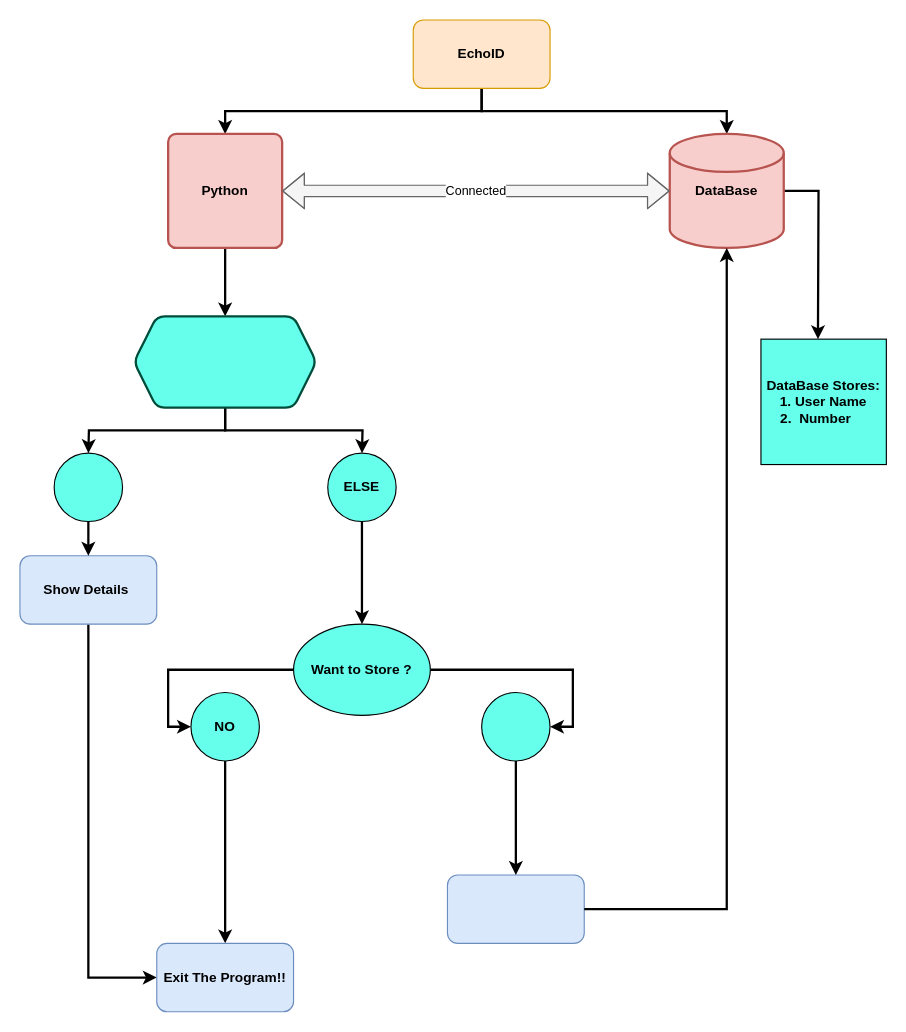
The diagram is 906 pixels wide and 1032 high, and some of its shapes have lost their labels. The centre of each missing label's shape, as x and y in pixels:
IFThere: (88,487)
Stores a new one in DataBase: (515,908)
User can Search 1. User 2. Number: (224,361)
YES: (515,726)
